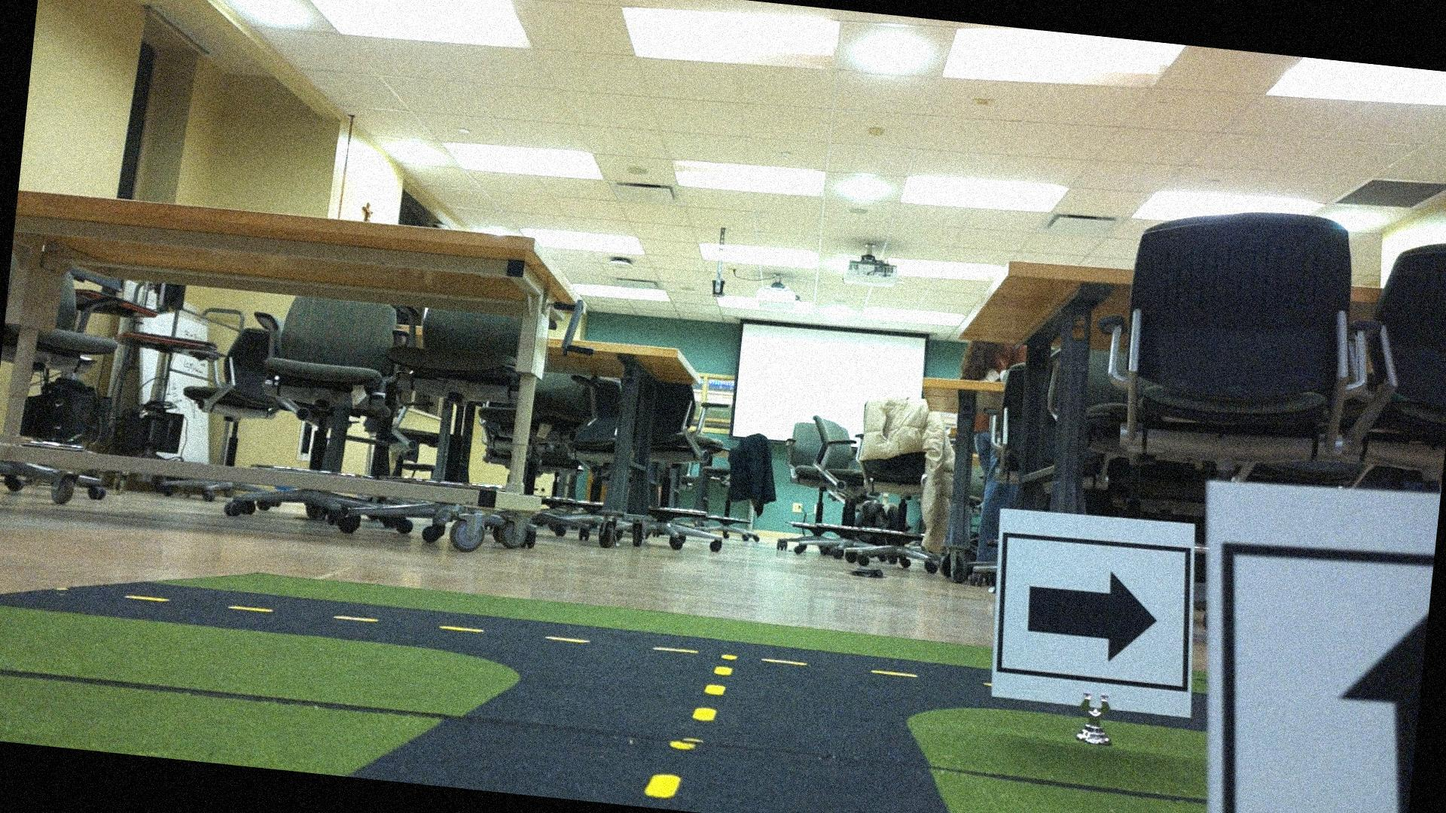turnleft: (992, 509, 1200, 711)
yellowline: (644, 657, 731, 804)
